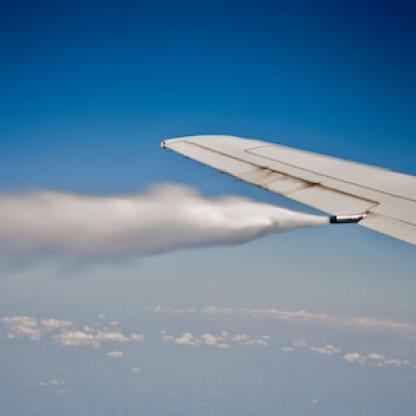CIV_Plane: (156, 128, 415, 245)
